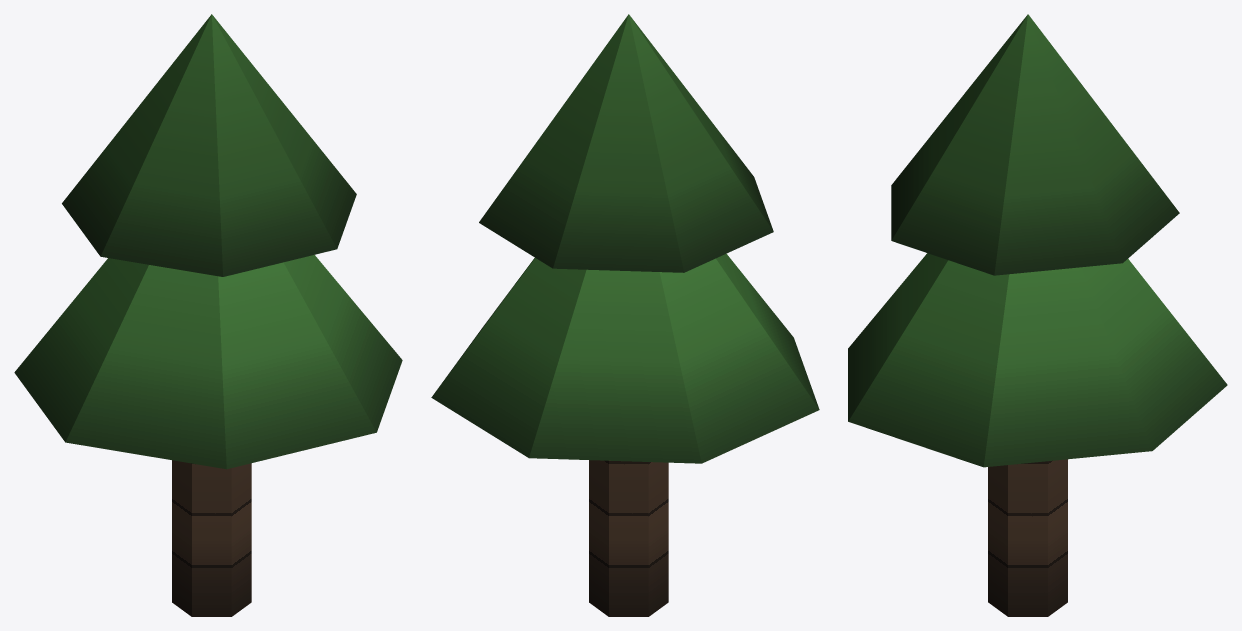
The model's file is tree.glb.
The picture shows the model from 3 angles, left to right: view 1: azimuth 30°, elevation 25°; view 2: azimuth 150°, elevation 25°; view 3: azimuth 270°, elevation 25°; orthographic projection.
Visible parts, largest first — view 1: tree; view 2: tree; view 3: tree.
Part boxes in pixels (<box>): tree: <box>14,14,402,616</box>; tree: <box>431,14,819,616</box>; tree: <box>848,14,1227,616</box>.
Bounding box in the file's own units: 0.9749 × 1.62 × 0.9505.
1 material, 1 textured.
